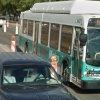Bus: (14, 2, 100, 89)
